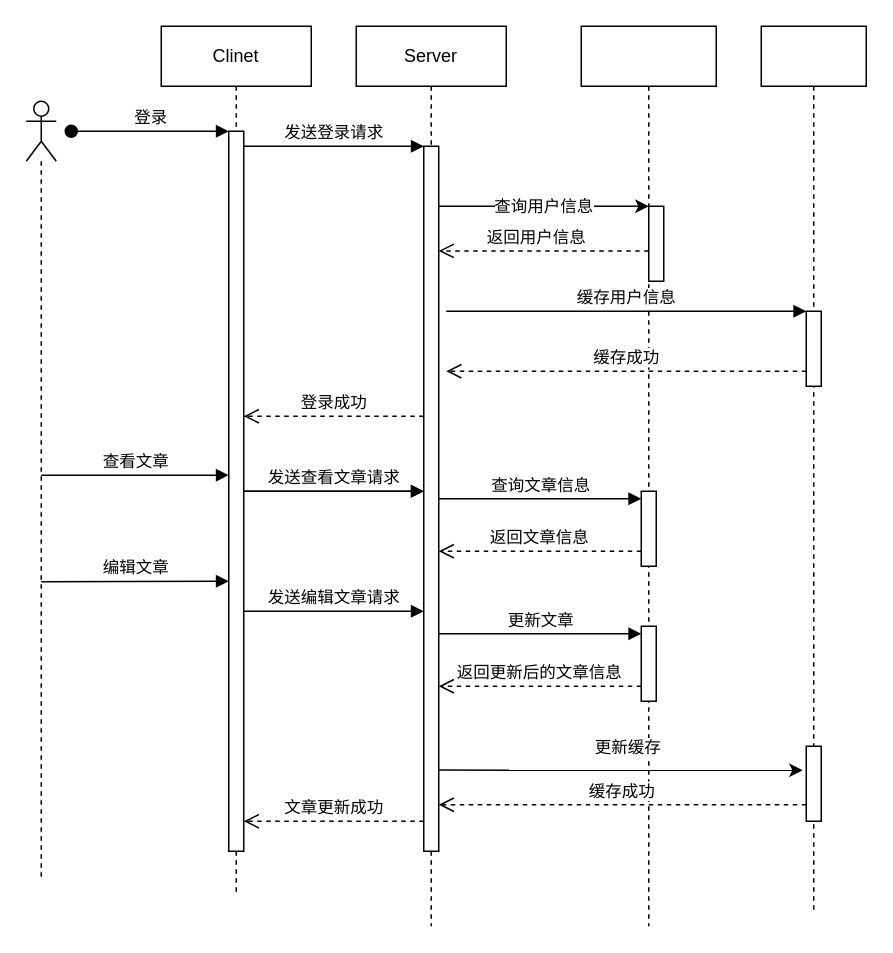
Some shapes in this 893 by 953 pixel diagram are drawn without their labels. The box of each missing label's shape, as (x1, y1, x2, y2) in pixels:
MySQL: (580, 25, 716, 926)
Redis: (760, 25, 866, 911)
